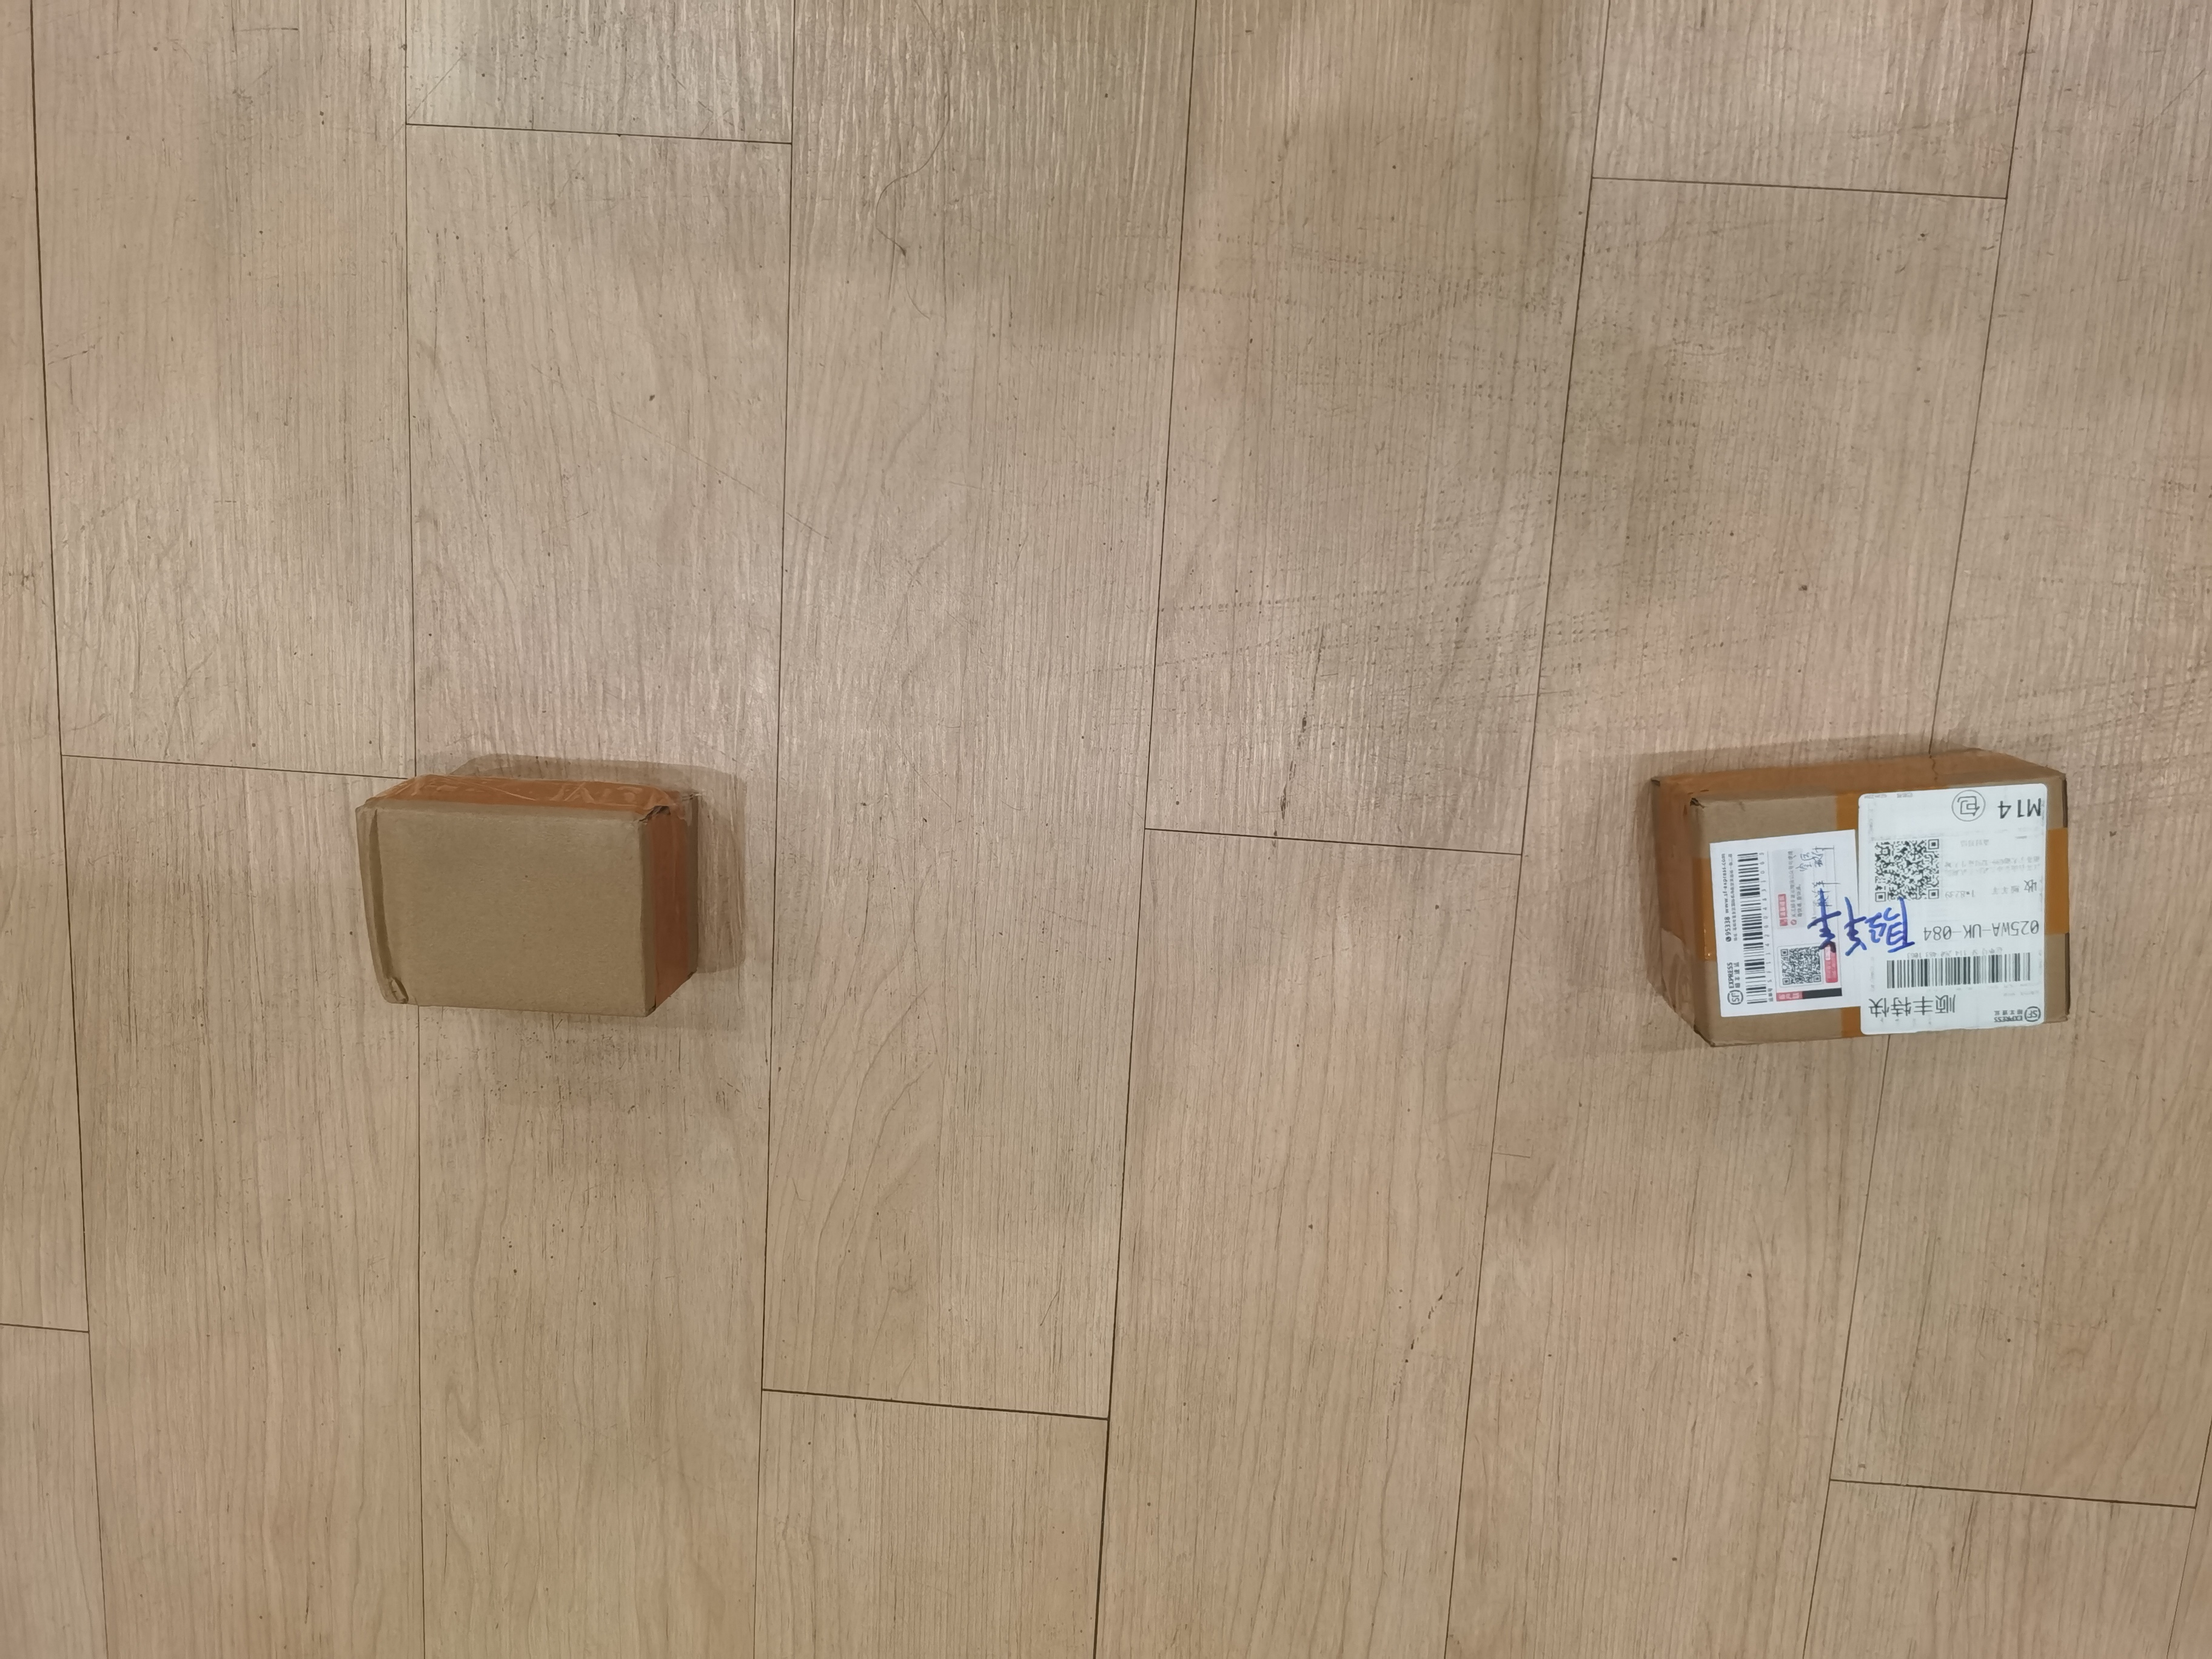box: (1618, 734, 2094, 1093), (331, 742, 740, 1044)
